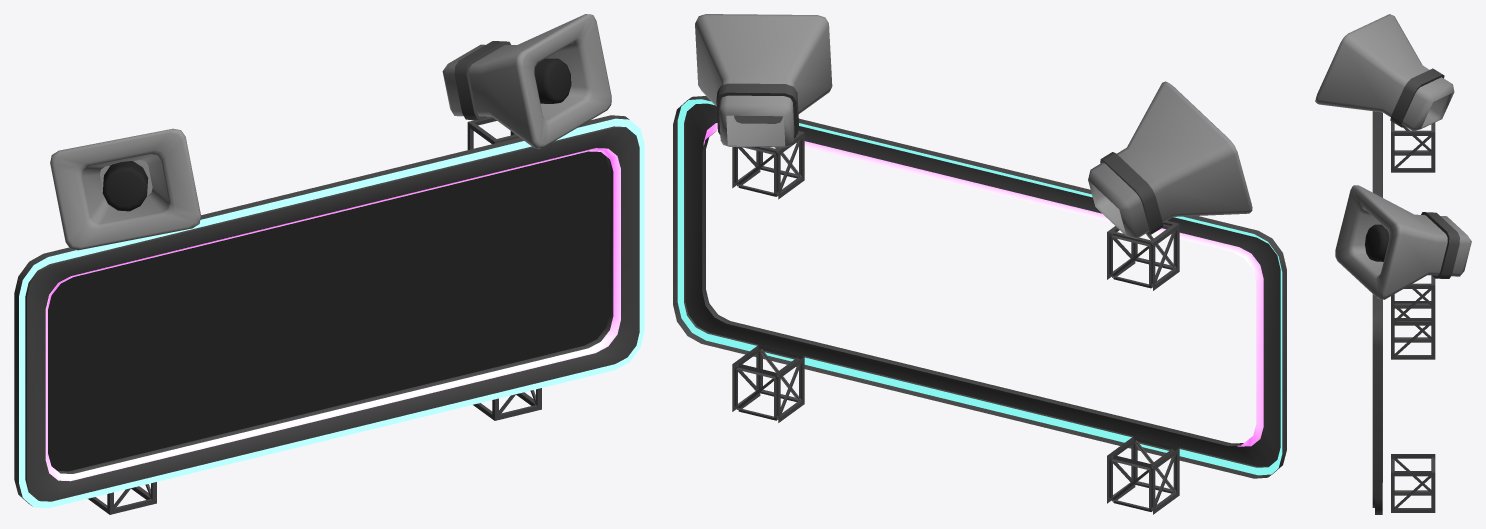
The model's file is PH_LeadBoard.fbx.
The picture shows the model from 3 angles, left to right: view 1: azimuth 30°, elevation 25°; view 2: azimuth 150°, elevation 25°; view 3: azimuth 270°, elevation 25°; orthographic projection. The views are drawn at different scales.
Parts seen in each view (by area): view 1: mesh_Walls_Rooftop_Leadboard; view 2: mesh_Walls_Rooftop_Leadboard; view 3: mesh_Walls_Rooftop_Leadboard.
Part boxes in pixels (x1=…): mesh_Walls_Rooftop_Leadboard: x1=14, y1=14, x2=644, y2=514; mesh_Walls_Rooftop_Leadboard: x1=673, y1=14, x2=1286, y2=514; mesh_Walls_Rooftop_Leadboard: x1=1315, y1=14, x2=1471, y2=514.
Size of the model in its own units: 1024 by 619 by 273.
